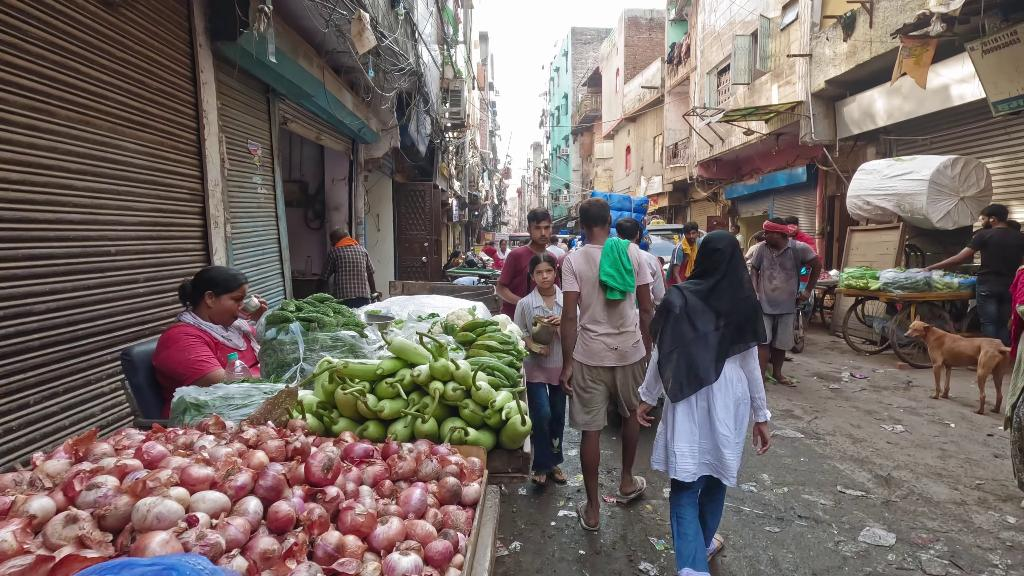garbage: (858, 526, 896, 547), (648, 535, 672, 551), (850, 371, 869, 380), (558, 510, 577, 518)
